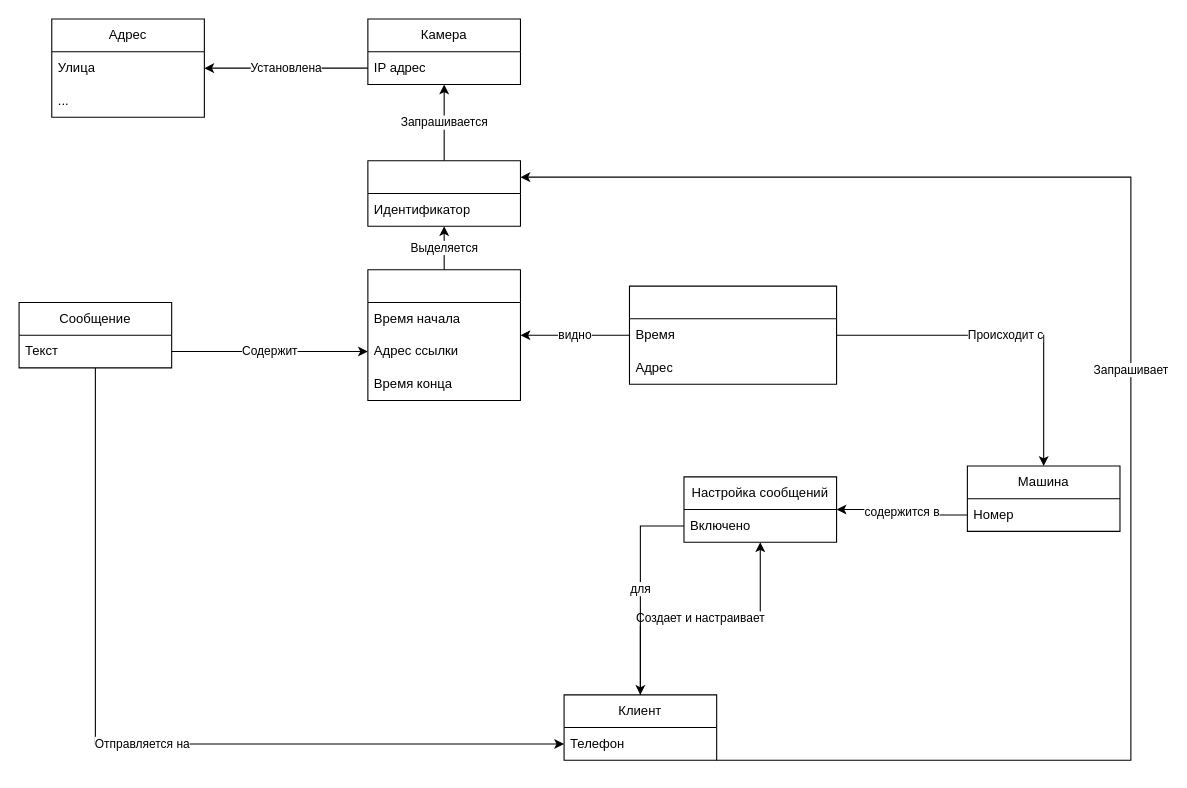
This 1187x788 diagram has some shape labels left out. Each missing label, with the box of its shape:
Видеопоток: (367, 160, 520, 226)
Событие: (628, 285, 837, 384)
Сылка на событие видео: (367, 269, 520, 401)
